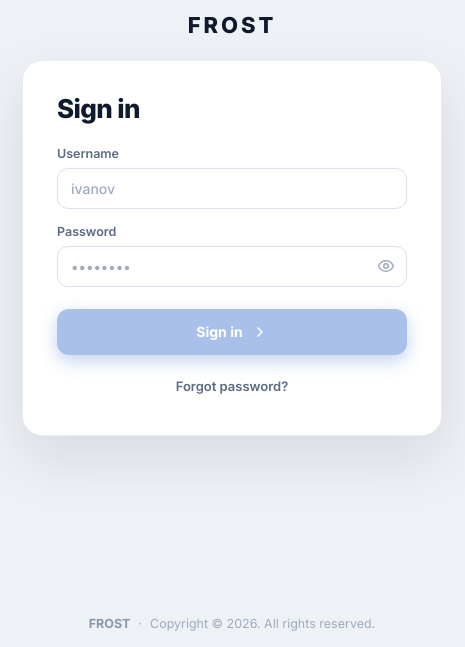
FrostLogin › switches to the 2FA code step when the backend requires it
Type "admin" into the field labelled "Username" at (232,188), box [57,168,407,208]
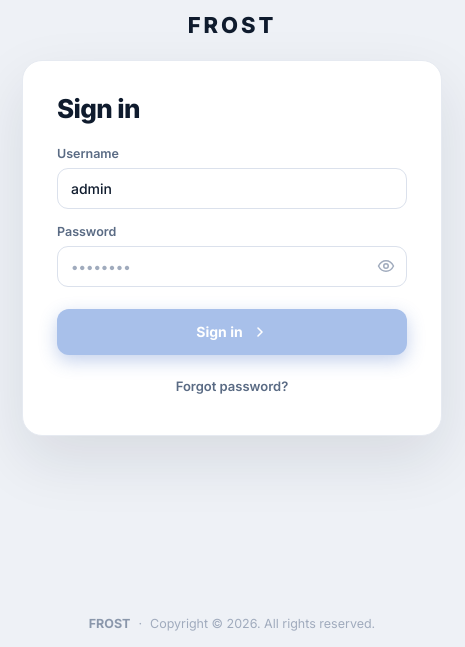
Type "admin" into the password field labelled "Password" at (232,266), box [57,246,407,286]
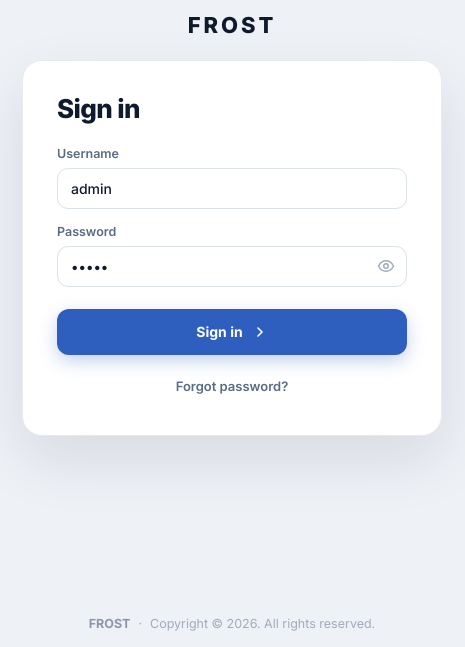
Click the button "Sign in" at (232,332), box [57,308,407,354]
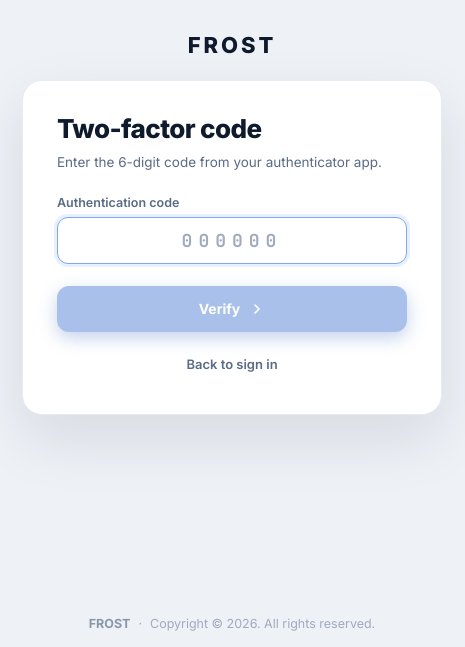
Expected: the heading "Two-factor code" is shown, [57,113,262,144]
Expected: the field labelled "Authentication code" is shown, [57,217,407,264]
